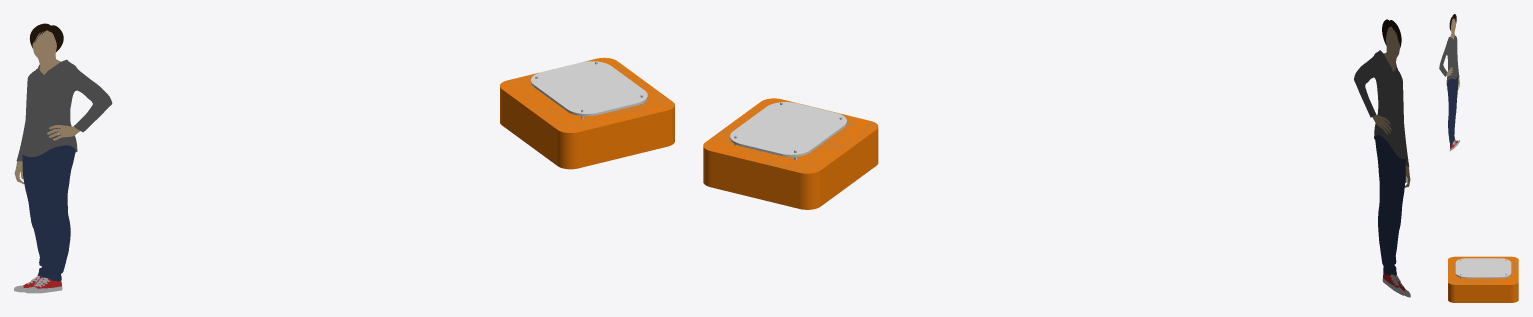
Rendered from amazon_kiva.dae.
3 renders of one model, left to right at view 1: azimuth 30°, elevation 25°; view 2: azimuth 150°, elevation 25°; view 3: azimuth 270°, elevation 25°, orthographic. The views are drawn at different scales.
Visible parts, largest first — view 1: Component (×3), Stacy (×4); view 2: Component (×3), Stacy (×3); view 3: Component (×4), Stacy (×3).
Part boxes in pixels (x1=…): Component (×3): x1=500, y1=57, x2=674, y2=169; Stacy (×4): x1=16, y1=23, x2=112, y2=281; Component (×3): x1=703, y1=98, x2=878, y2=209; Stacy (×3): x1=1354, y1=26, x2=1409, y2=274; Component (×4): x1=1448, y1=256, x2=1518, y2=302; Stacy (×3): x1=1439, y1=18, x2=1459, y2=146.
Bounding box in the file's own units: 167 × 35.05 × 65.57.
